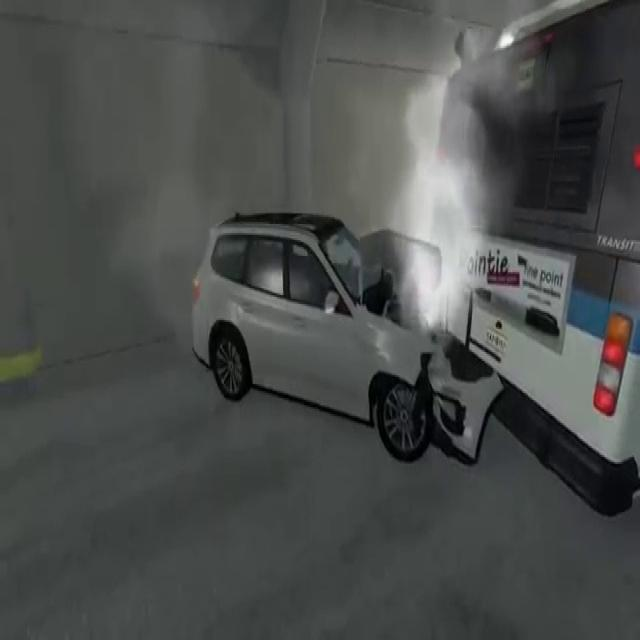severe: (180, 0, 640, 526)
